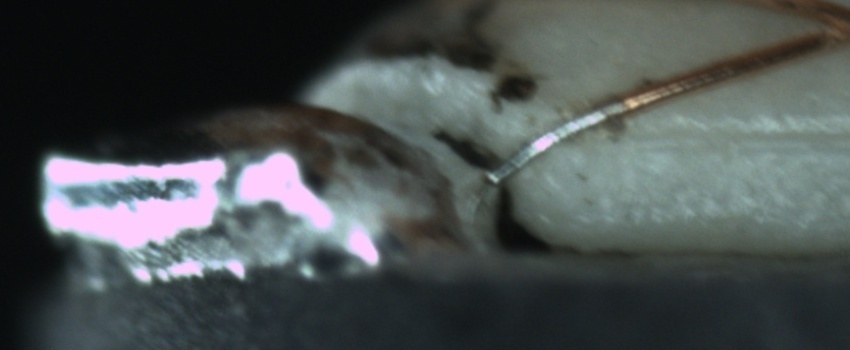DL: (616, 100, 842, 173)
TS: (489, 102, 620, 186)
